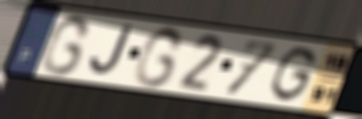2: (176, 34, 225, 94)
7: (223, 38, 280, 98)
G: (132, 25, 187, 90), (39, 13, 94, 78), (268, 45, 319, 104)
J: (87, 23, 135, 79)
